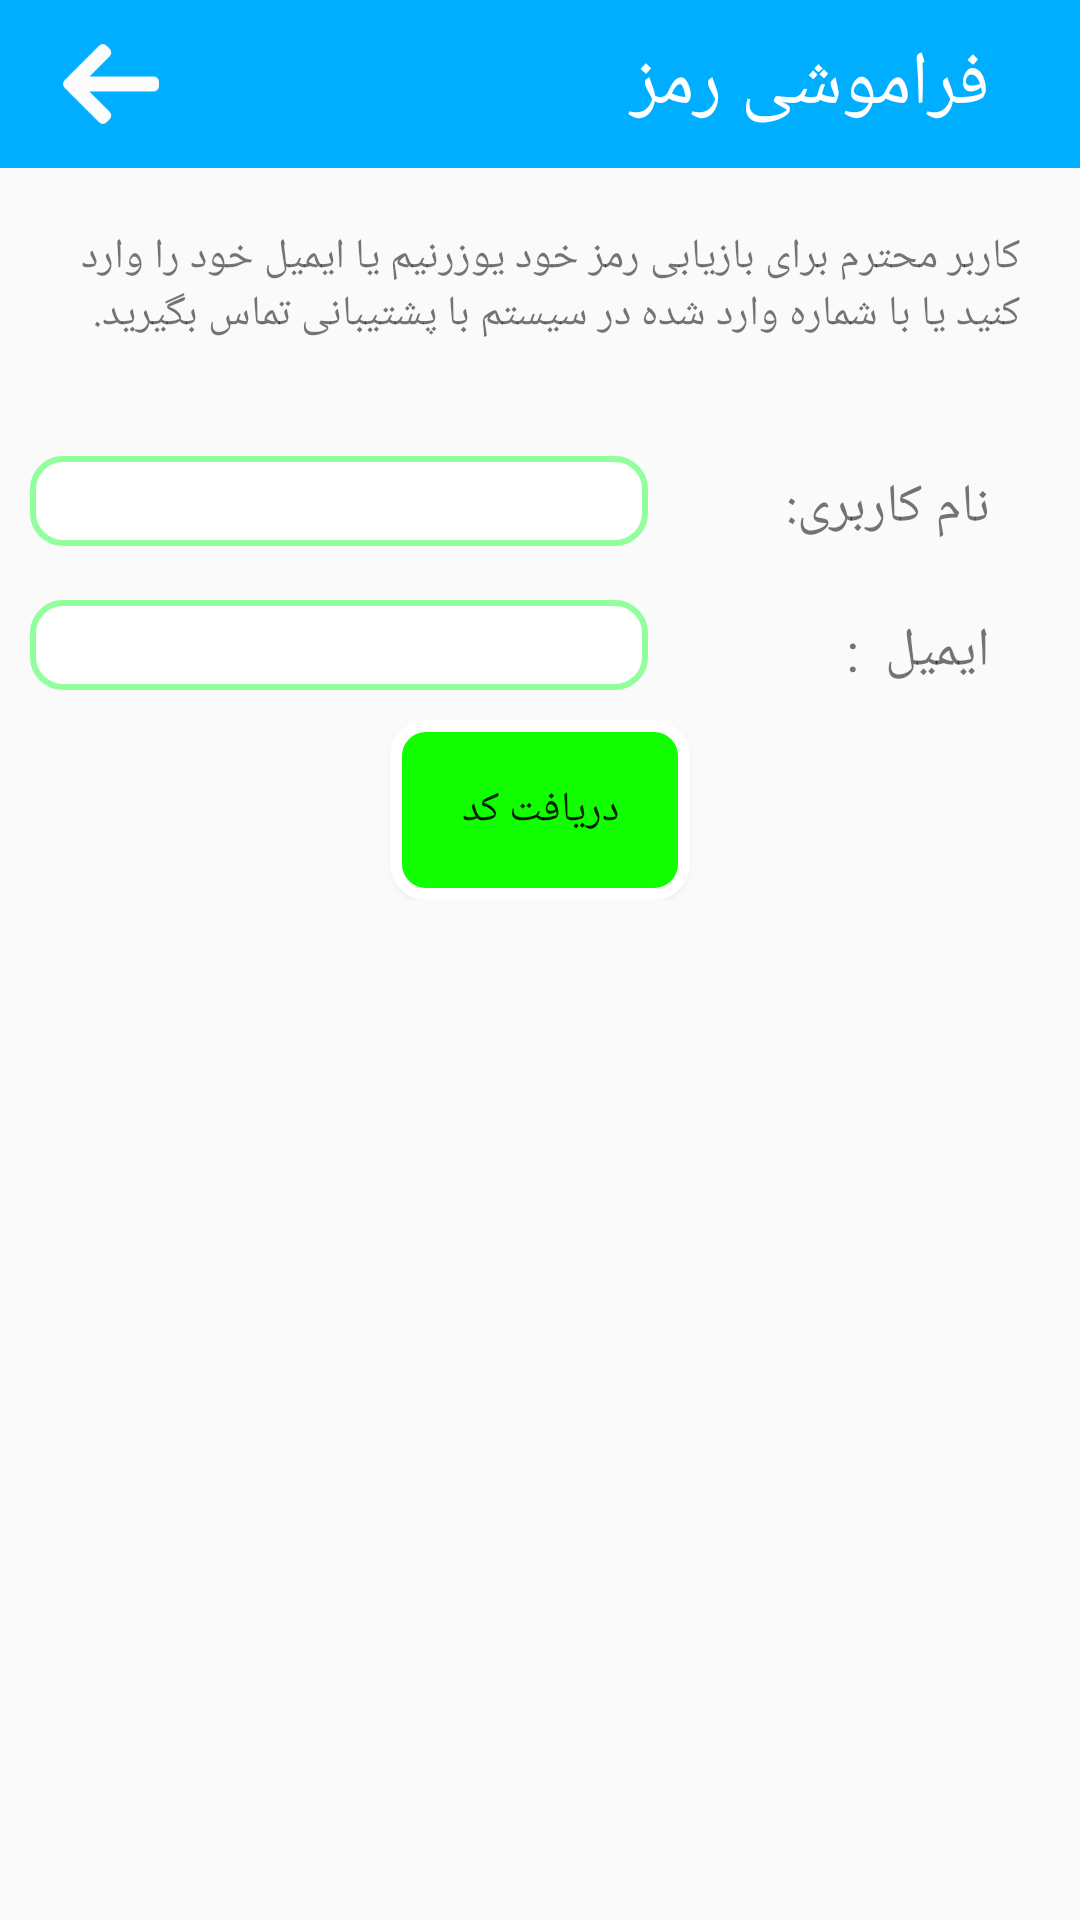

Screen size 1080x1920. Icon name, then its box in pixels as detection(x1, y1, x2, y2):
back: detection(63, 44, 159, 124)
